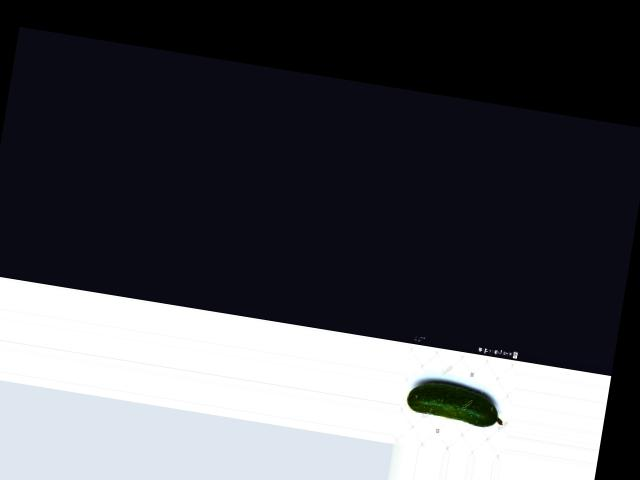cucumber: (403, 377, 507, 430)
